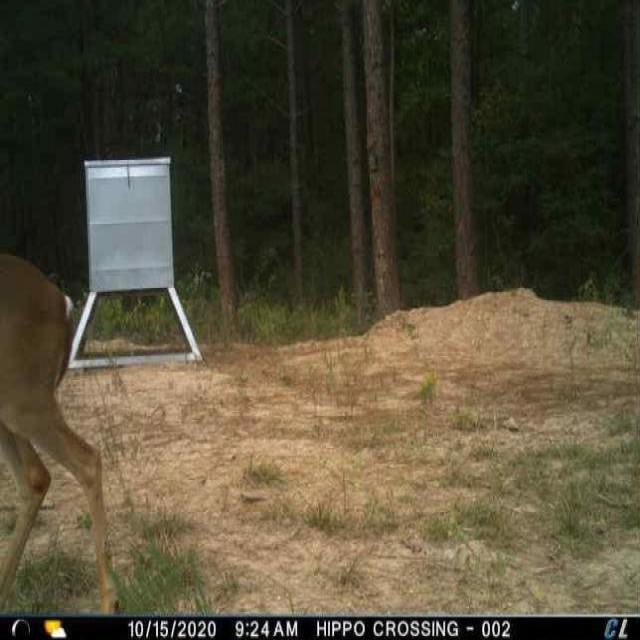deer: (2, 243, 122, 617)
